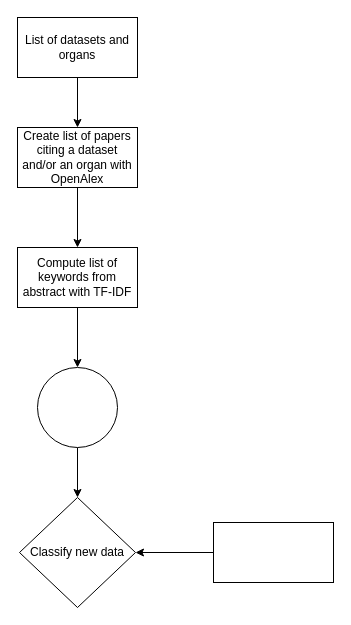
Image size: 351x625. Some labels were removed from this diagram. The centre of each missing label's shape, as x and y in pixels:
New papers: (x=273, y=552)
Train a classifier: (x=77, y=407)
